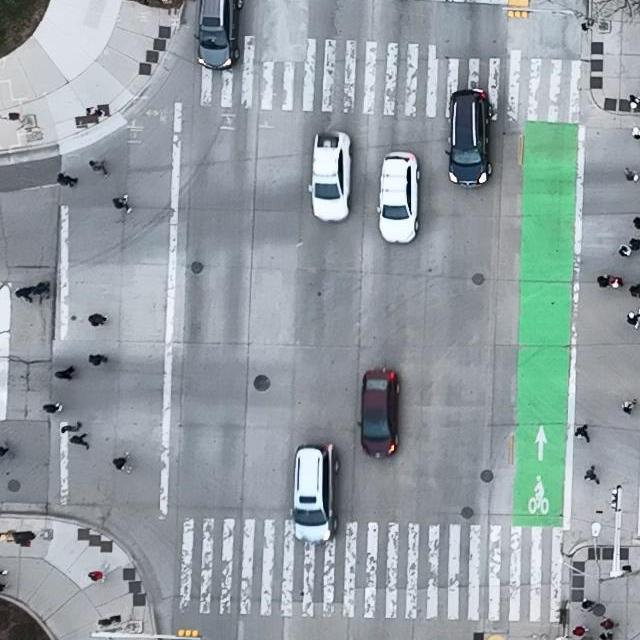car: (290, 442, 340, 540), (446, 89, 493, 188), (308, 130, 353, 223), (376, 151, 420, 243), (358, 367, 400, 457), (194, 0, 242, 70)
